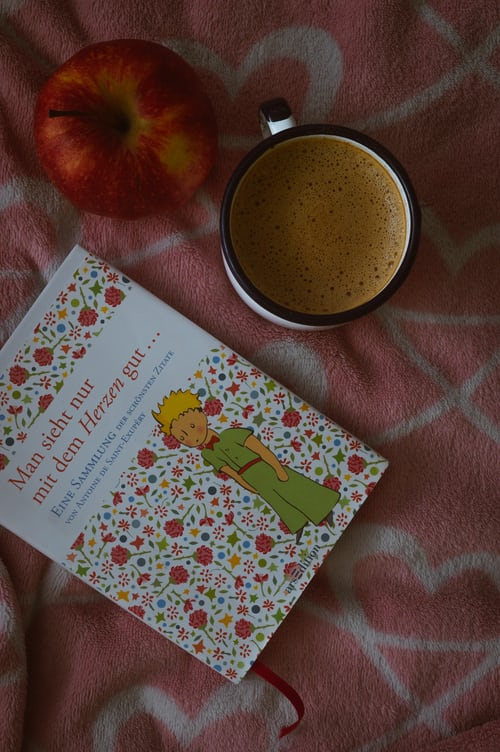apple: (31, 31, 220, 222)
